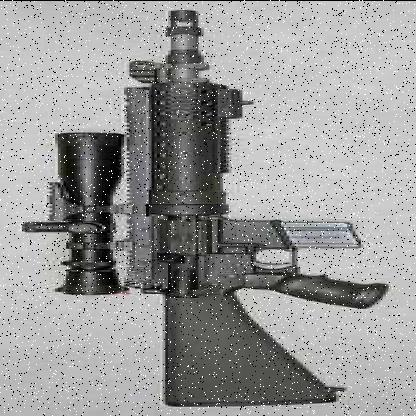rifle: (36, 4, 377, 409)
